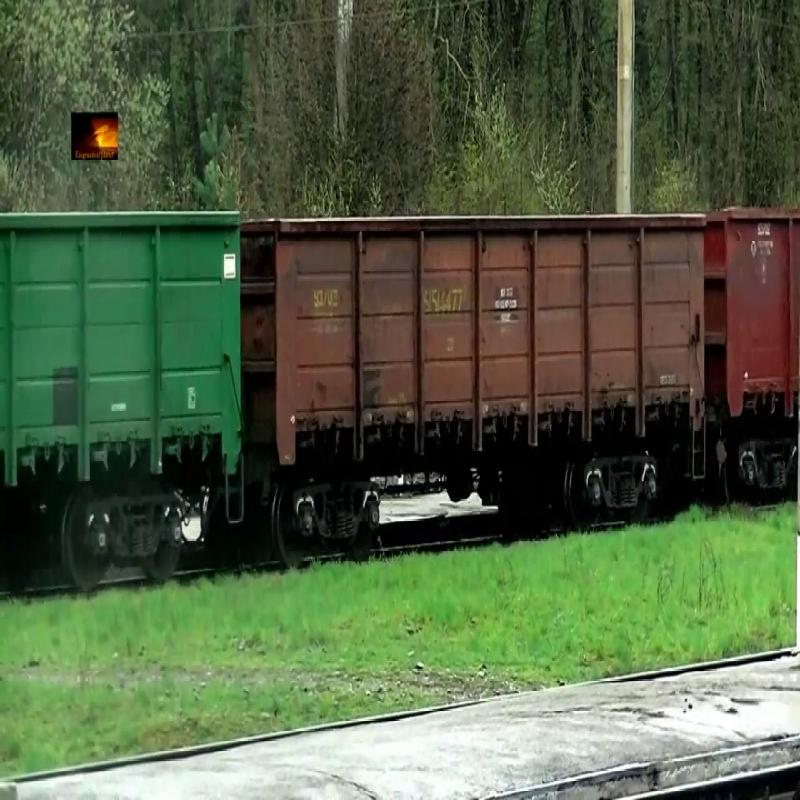train: (247, 214, 706, 463), (1, 208, 242, 493), (708, 209, 798, 417)
